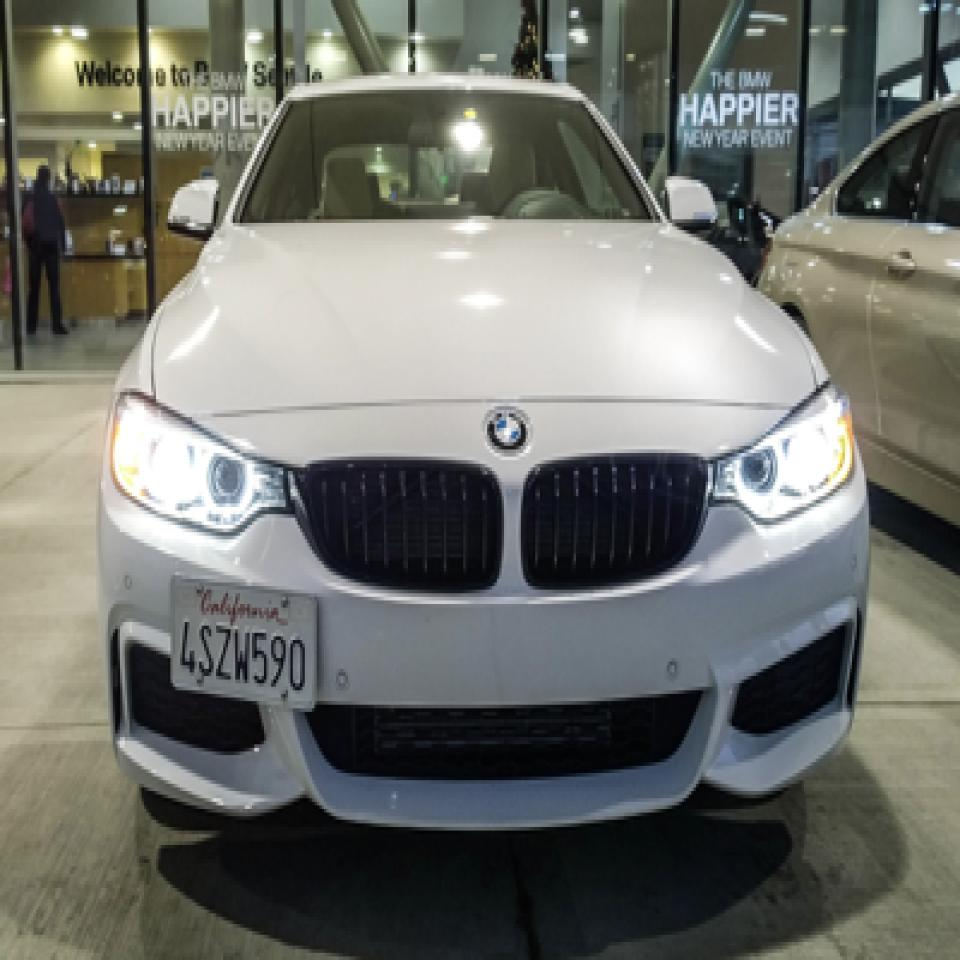licence: (170, 571, 314, 704)
